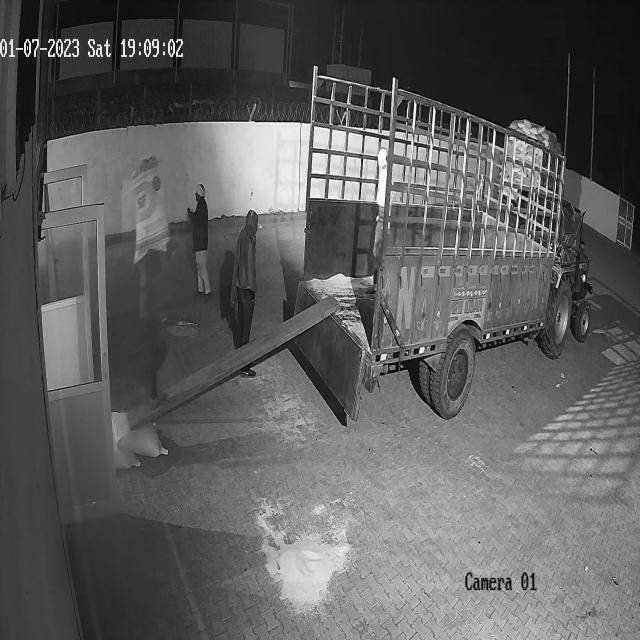sack: (132, 156, 169, 261), (110, 409, 168, 458)
